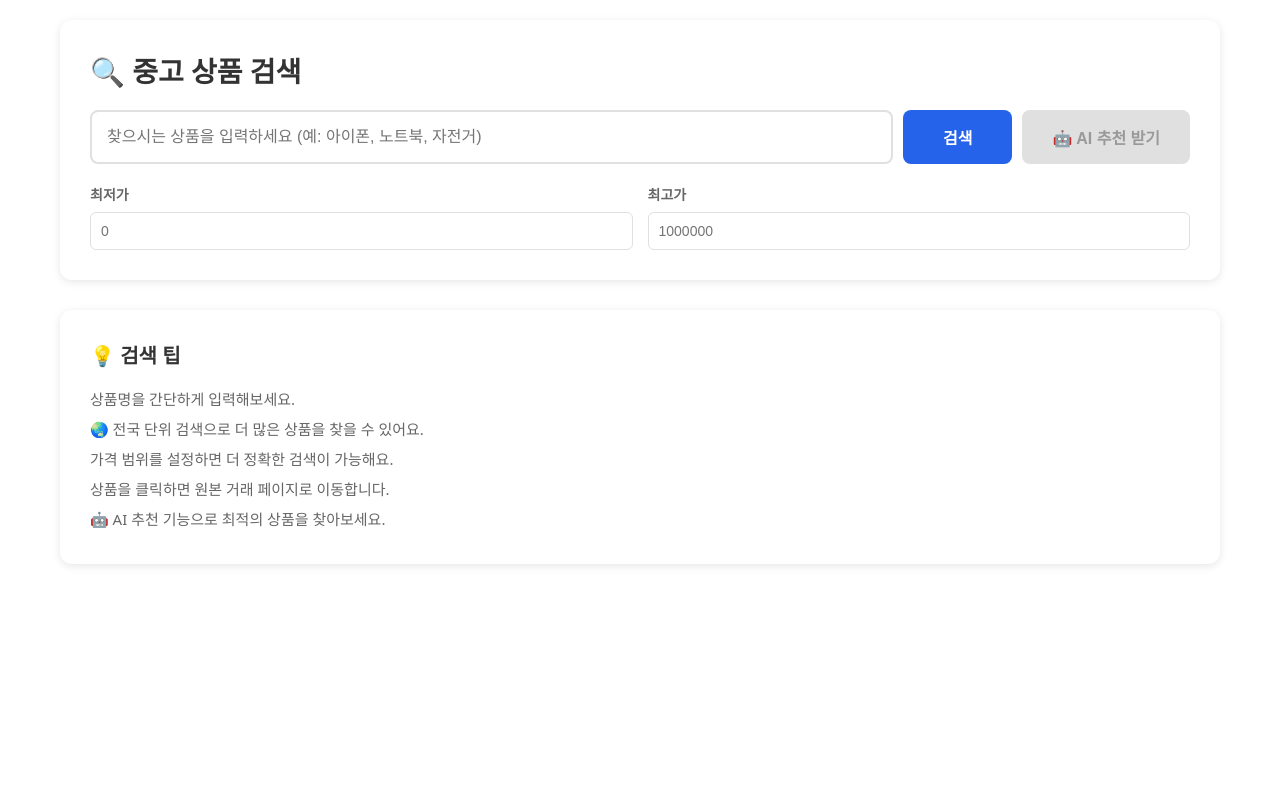
Test case: ProductSearch Component › 검색어 없이 검색하면 에러 메시지가 표시되어야 함
What coordinates should you click on to do the following:
click the button "검색"
I would click on:
 (958, 137)
Its box is [903, 110, 1012, 164].
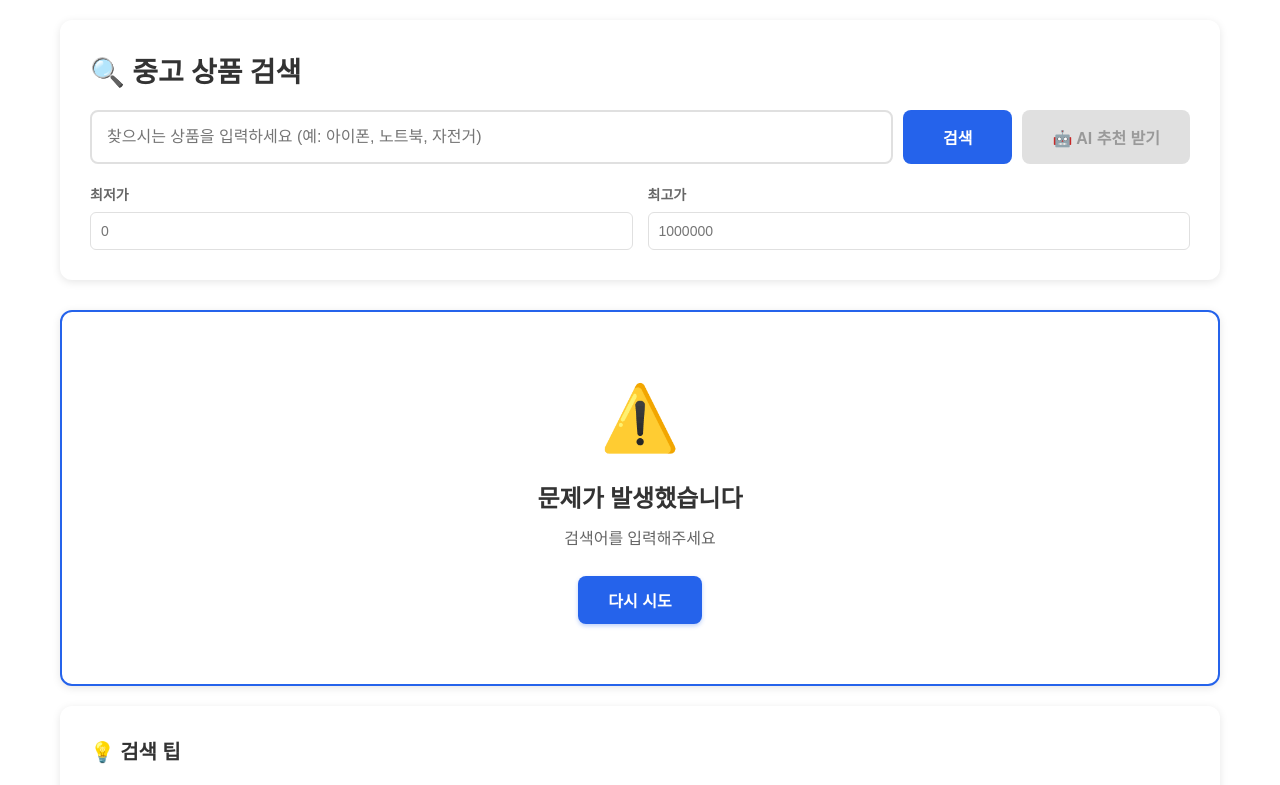
Expected: the text "검색어를 입력해주세요" is shown, [564, 527, 716, 549]
